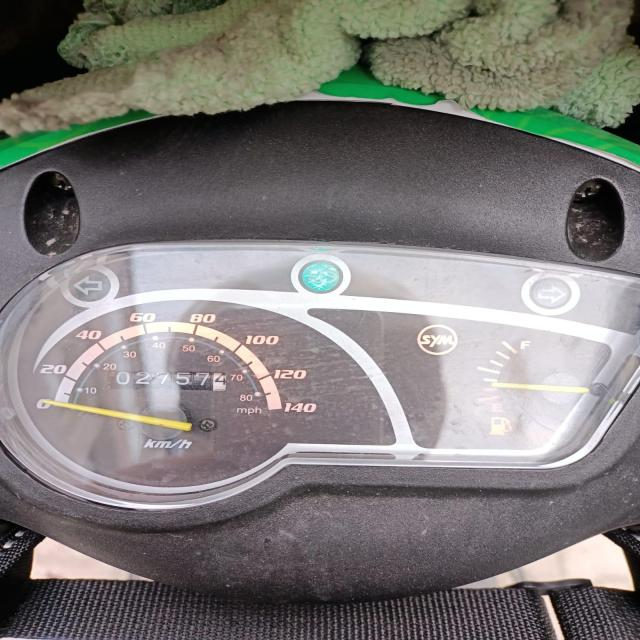odometer: (107, 370, 228, 392)
